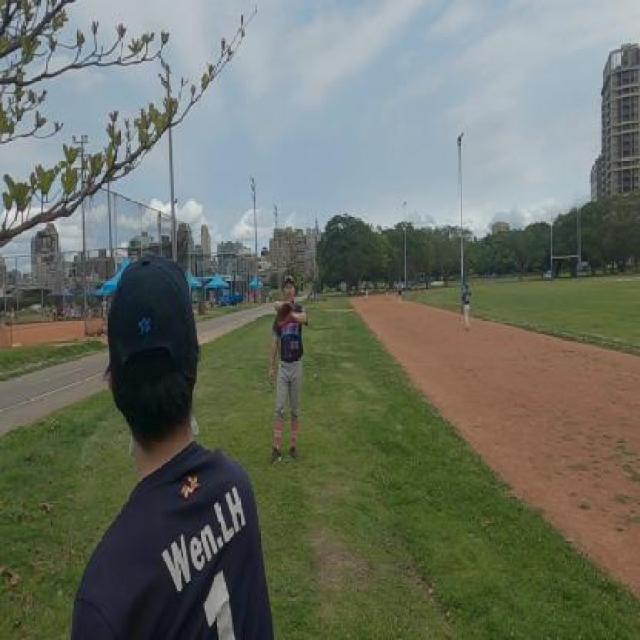baseball: (274, 299, 280, 312)
